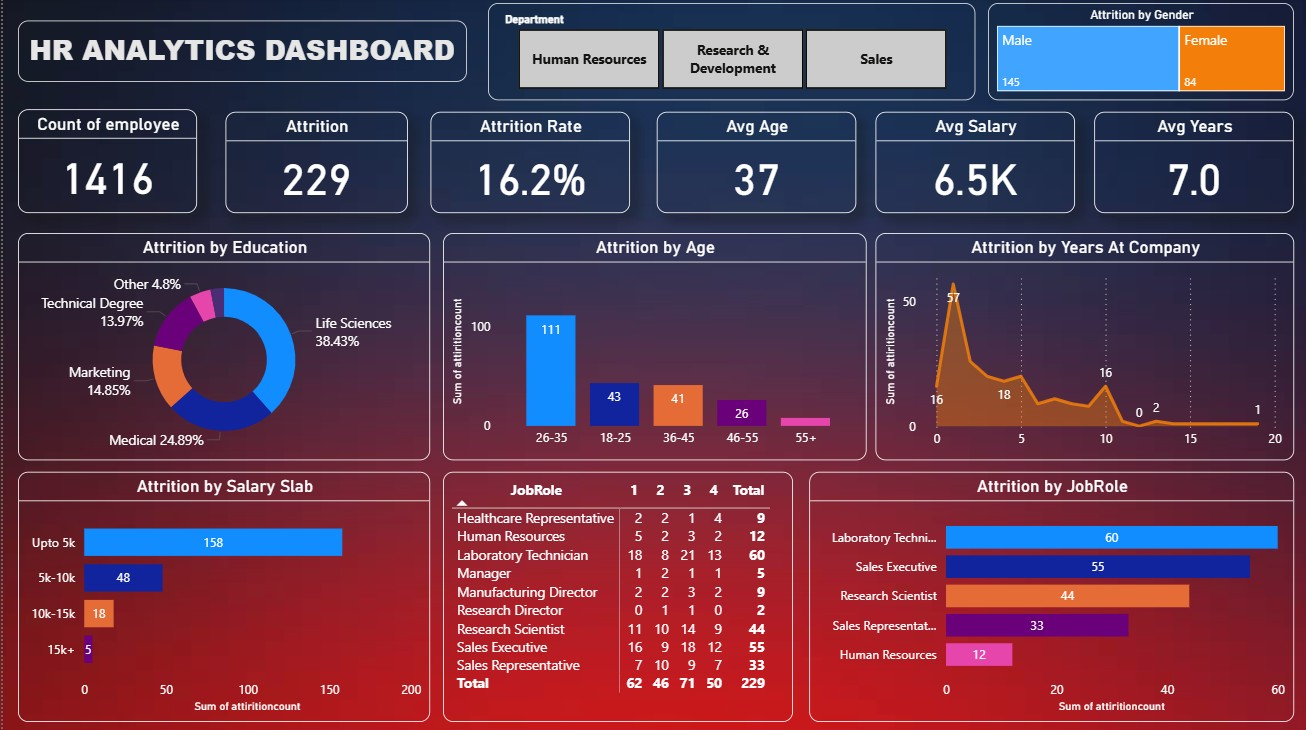

The dashboard page shown, as its layout file describes it:
{"tool":"powerbi","page":{"name":"Page 1","canvas":[1280,720],"ordinal":0},"visuals":[{"type":"group","id":"g1","title":"Group 1","box":[14.7,108.8,1248.5,101.5],"z":0},{"type":"card","title":"Count of employee","fields":{"Values":["CountNonNull(HR_Analytics.EmpID)"]},"box":[14.7,108.8,175.5,101.5],"z":0,"group":"g1"},{"type":"treemap","title":"Attrition by Gender","fields":{"Group":["HR_Analytics.Gender"],"Values":["Sum(HR_Analytics.attiritioncount)"]},"box":[963.6,4.9,299.6,95.4],"z":1000},{"type":"card","title":"Attrition Rate","fields":{"Values":["HR_Analytics.AttritionRate"]},"box":[417.7,111.2,195.3,99],"z":1000,"group":"g1"},{"type":"donutChart","title":"Attrition by Education","fields":{"Category":["HR_Analytics.EducationField"],"Y":["Sum(HR_Analytics.attiritioncount)"]},"box":[14.7,229.9,403.5,222.6],"z":1000,"group":"g3"},{"type":"slicer","fields":{"Values":["HR_Analytics.Department"]},"box":[474.5,4.9,476.9,95.4],"z":2000},{"type":"card","title":"Attrition ","fields":{"Values":["Sum(HR_Analytics.attiritioncount)"]},"box":[217.4,111.2,178,99],"z":2000,"group":"g1"},{"type":"columnChart","title":"Attrition by Age","fields":{"Category":["HR_Analytics.AgeGroup"],"Y":["Sum(HR_Analytics.attiritioncount)"],"Series":["HR_Analytics.AgeGroup"]},"box":[430.9,230.3,414.4,222.3],"z":2000,"group":"g3"},{"type":"textbox","box":[14.7,22,439,59.9],"z":3000},{"type":"card","title":"Avg Age","fields":{"Values":["Avg(HR_Analytics.Age)"]},"box":[639,111.2,195.3,99],"z":3000,"group":"g1"},{"type":"pivotTable","fields":{"Rows":["HR_Analytics.JobRole"],"Columns":["HR_Analytics.JobSatisfaction"],"Values":["Sum(HR_Analytics.attiritioncount)"]},"box":[430.5,463.5,342.4,244.6],"z":3000,"group":"g2"},{"type":"card","title":"Avg Years","fields":{"Values":["Avg(HR_Analytics.YearsAtCompany)"]},"box":[1067.9,111.2,195.3,99],"z":4000,"group":"g1"},{"type":"group","id":"g2","title":"Group 2","box":[14.7,463.5,1248.5,244.6],"z":4000},{"type":"barChart","title":"Attrition by Salary Slab","fields":{"Category":["HR_Analytics.SalarySlab"],"Y":["Sum(HR_Analytics.attiritioncount)"],"Series":["HR_Analytics.SalarySlab"]},"box":[14.7,463.5,403.5,244.6],"z":4000,"group":"g2"},{"type":"card","title":"Avg Salary","fields":{"Values":["Avg(HR_Analytics.MonthlyIncome)"]},"box":[854,111.2,195.3,99],"z":5000,"group":"g1"},{"type":"group","id":"g3","title":"Group 3","box":[14.7,229.9,1248.5,222.6],"z":5000},{"type":"barChart","title":"Attrition by JobRole","fields":{"Y":["Sum(HR_Analytics.attiritioncount)"],"Category":["HR_Analytics.JobRole"],"Series":["HR_Analytics.JobRole"]},"box":[788.8,463.5,474.5,244.6],"z":5000,"group":"g2"},{"type":"areaChart","title":"Attrition by Years At Company","fields":{"Category":["HR_Analytics.YearsAtCompany"],"Y":["Sum(HR_Analytics.attiritioncount)"]},"box":[853.6,229.9,409.6,222.6],"z":6000,"group":"g3"}]}

Visuals, with their boxes in screenshot pixels (x1, y1, x2, y2), scaled from the page's 1280x720 canvas onto the 1306x730 screenshot:
"Group 1" group: detection(15, 110, 1289, 213)
"Count of employee" card: detection(15, 110, 194, 213)
"Attrition by Gender" treemap: detection(983, 5, 1289, 102)
"Attrition Rate" card: detection(426, 113, 625, 213)
"Attrition by Education" donutChart: detection(15, 233, 427, 459)
slicer - HR_Analytics.Department: detection(484, 5, 971, 102)
"Attrition " card: detection(222, 113, 403, 213)
"Attrition by Age" columnChart: detection(440, 233, 862, 459)
textbox: detection(15, 22, 463, 83)
"Avg Age" card: detection(652, 113, 851, 213)
pivotTable - HR_Analytics.JobRole x HR_Analytics.JobSatisfaction: detection(439, 470, 789, 718)
"Avg Years" card: detection(1090, 113, 1289, 213)
"Group 2" group: detection(15, 470, 1289, 718)
"Attrition by Salary Slab" barChart: detection(15, 470, 427, 718)
"Avg Salary" card: detection(871, 113, 1071, 213)
"Group 3" group: detection(15, 233, 1289, 459)
"Attrition by JobRole" barChart: detection(805, 470, 1289, 718)
"Attrition by Years At Company" areaChart: detection(871, 233, 1289, 459)
